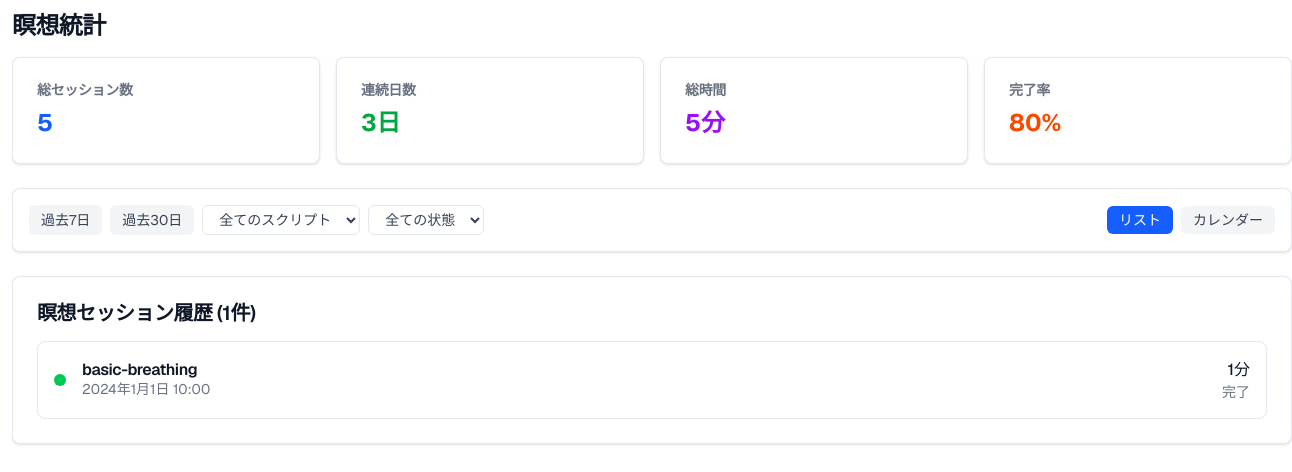
Test case: MeditationHistory › should clear filters
The width and height of the screenshot is (1292, 472).
Set a filter first
Click the button "過去7日": coordinates (66, 220) [29,205,102,235]
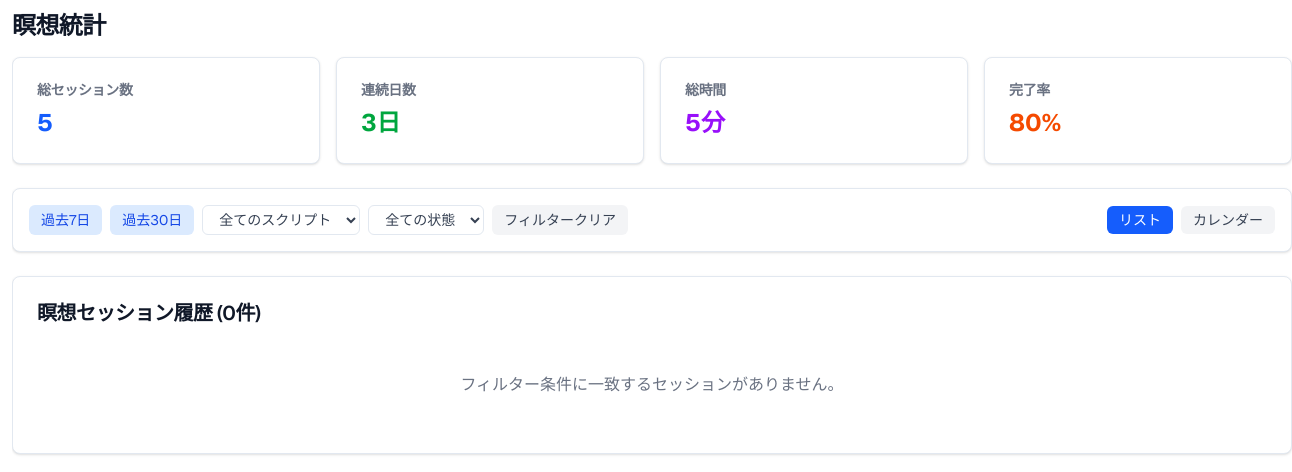
Clear filters
Click the button "フィルタークリア": coordinates (560, 220) [492,205,628,235]
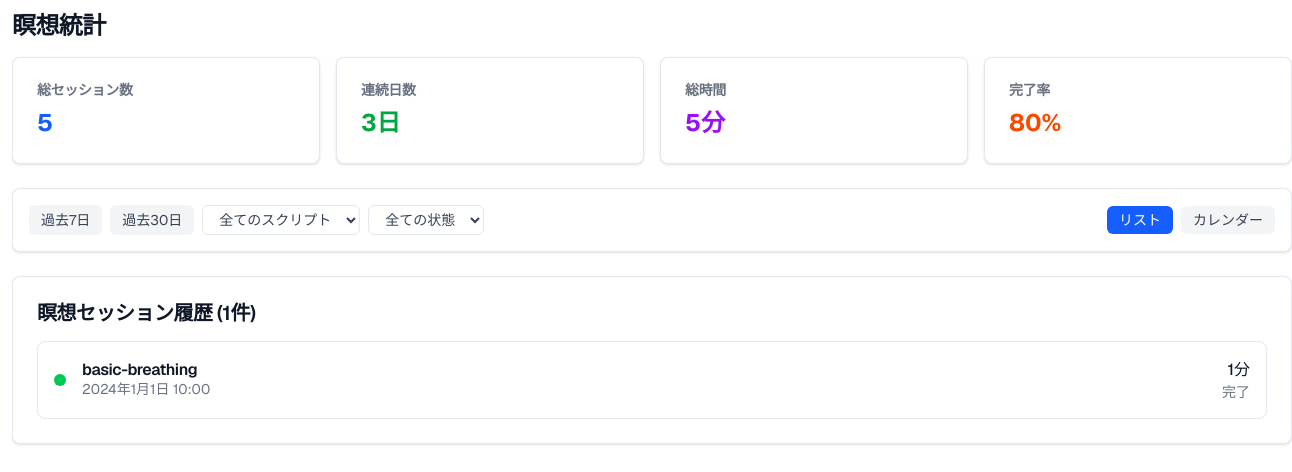
Expected: the button "フィルタークリア" is gone
